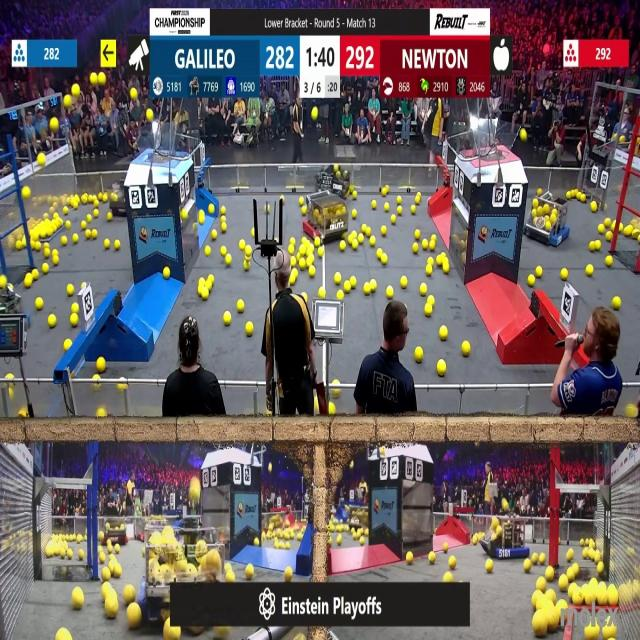ball_airborne: (189, 481, 199, 501), (171, 626, 181, 640), (49, 117, 58, 130), (520, 130, 528, 143), (72, 86, 80, 98), (37, 153, 45, 165), (23, 186, 31, 198), (99, 72, 106, 85), (146, 109, 153, 121), (501, 499, 508, 511), (65, 96, 72, 108), (92, 73, 99, 85), (312, 107, 318, 120), (132, 90, 138, 100)
ball_ground: (535, 613, 549, 640), (128, 604, 142, 629), (105, 596, 118, 618), (72, 589, 84, 610), (126, 586, 136, 604), (97, 356, 106, 372), (536, 578, 546, 592), (532, 593, 540, 609), (415, 348, 424, 362), (559, 576, 568, 590), (439, 360, 447, 375), (628, 407, 638, 419), (58, 630, 70, 640), (567, 566, 576, 579), (441, 326, 449, 340), (462, 342, 469, 357), (246, 564, 253, 579), (48, 314, 56, 327), (486, 560, 494, 573), (424, 305, 432, 318), (113, 565, 121, 578), (444, 571, 453, 582), (449, 557, 457, 569), (164, 268, 172, 280), (420, 283, 428, 295), (70, 314, 78, 326), (614, 296, 622, 308), (544, 568, 552, 580), (524, 560, 532, 572), (102, 568, 110, 580), (246, 322, 253, 335), (238, 301, 245, 314), (223, 313, 230, 326), (64, 341, 72, 352), (202, 288, 210, 299), (297, 257, 305, 268), (387, 286, 394, 298), (226, 570, 233, 582), (36, 297, 43, 309), (328, 404, 335, 416), (407, 553, 414, 565), (26, 276, 33, 288), (369, 280, 376, 292), (285, 568, 292, 580), (51, 252, 58, 264), (597, 562, 604, 574), (338, 289, 346, 299), (98, 410, 106, 420), (307, 246, 315, 256), (180, 210, 188, 220), (307, 255, 315, 265), (559, 600, 567, 610), (587, 266, 594, 277), (363, 283, 370, 294), (318, 287, 325, 298), (535, 268, 542, 279), (43, 247, 50, 258), (207, 279, 214, 290), (566, 551, 573, 562), (589, 241, 596, 252), (102, 584, 109, 595), (68, 284, 74, 296), (336, 274, 342, 286), (426, 266, 432, 278), (429, 553, 435, 565), (428, 242, 436, 251), (0, 276, 6, 288), (561, 270, 568, 280), (528, 276, 535, 286), (42, 265, 49, 275), (605, 256, 612, 266), (427, 294, 434, 304), (298, 246, 305, 256), (344, 282, 351, 292), (591, 203, 598, 213), (625, 228, 632, 238), (400, 277, 406, 288), (444, 264, 450, 275), (290, 256, 296, 267), (341, 241, 347, 252), (538, 554, 544, 565), (289, 275, 295, 286), (413, 243, 419, 254), (532, 554, 538, 565), (377, 248, 383, 259), (348, 234, 354, 245), (582, 551, 588, 562), (118, 382, 126, 390), (317, 248, 324, 257), (435, 256, 442, 265), (245, 247, 252, 256), (220, 222, 227, 231), (195, 286, 202, 295), (18, 411, 25, 420), (224, 254, 230, 264), (369, 237, 375, 247), (104, 240, 110, 250), (415, 231, 421, 241), (100, 553, 106, 563), (80, 220, 86, 230), (350, 278, 356, 288), (72, 234, 78, 244), (240, 240, 246, 250), (605, 232, 611, 242), (32, 270, 38, 280), (382, 254, 388, 264), (381, 225, 387, 235), (422, 240, 428, 250), (200, 212, 205, 224), (310, 268, 316, 278), (68, 550, 74, 560), (598, 223, 604, 233), (36, 242, 42, 252), (99, 532, 105, 542), (427, 256, 434, 264), (94, 210, 101, 218), (395, 197, 402, 205), (253, 538, 260, 546), (62, 567, 69, 575), (416, 192, 421, 203), (114, 241, 120, 250), (107, 212, 113, 221), (72, 305, 78, 314), (288, 246, 294, 255), (93, 231, 99, 240), (114, 543, 120, 552), (220, 247, 226, 256), (205, 247, 211, 256), (62, 237, 68, 246), (315, 238, 321, 247), (396, 206, 402, 215), (352, 241, 358, 250), (390, 215, 396, 224), (78, 551, 84, 560), (604, 218, 610, 227), (596, 240, 601, 250), (358, 236, 363, 246), (385, 203, 390, 213), (338, 535, 343, 545), (244, 264, 250, 272), (370, 202, 376, 210), (66, 220, 72, 228), (84, 232, 90, 240), (220, 207, 226, 215), (532, 200, 538, 208), (95, 201, 101, 209), (381, 188, 387, 196), (444, 542, 449, 551), (352, 210, 357, 219), (108, 542, 113, 551), (88, 215, 94, 222), (430, 235, 436, 242), (299, 207, 305, 214), (220, 215, 226, 222), (6, 374, 12, 381), (363, 529, 369, 536), (412, 206, 417, 214), (212, 232, 217, 240), (362, 223, 366, 233), (209, 206, 214, 214), (200, 278, 205, 286), (103, 193, 108, 201), (299, 198, 303, 207), (267, 412, 273, 418), (64, 208, 69, 215), (304, 238, 309, 245), (269, 464, 274, 471), (80, 282, 85, 289), (296, 533, 301, 540), (251, 230, 255, 238), (360, 536, 364, 544), (580, 196, 584, 204), (620, 224, 624, 232), (290, 238, 294, 245), (353, 191, 357, 198), (537, 188, 541, 195), (268, 206, 272, 213), (472, 538, 476, 544), (281, 195, 284, 200)
goal: (465, 121, 520, 160), (128, 130, 187, 160)
robot_blue: (138, 527, 225, 627), (526, 193, 570, 248), (0, 279, 26, 352), (483, 518, 527, 558), (316, 166, 356, 201)
robot_red: (302, 192, 348, 242), (136, 516, 162, 543), (104, 516, 127, 545)
